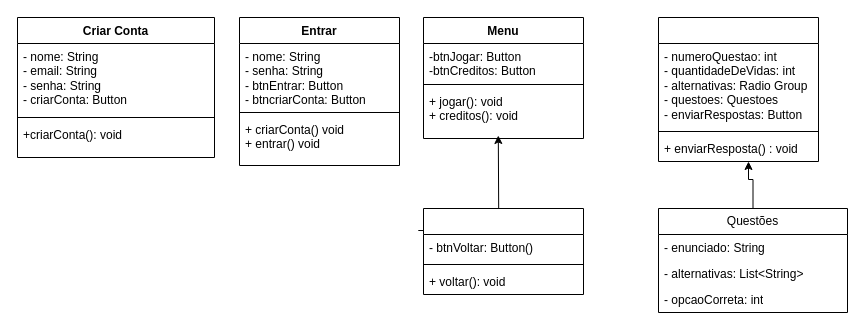
Image size: 865x333. Some labels were removed from this diagram. Here are the shapes that lost their labels. From the top down, the box of each, then its label:
(658, 16, 818, 162): Gameplay
(422, 208, 584, 294): Créditos
